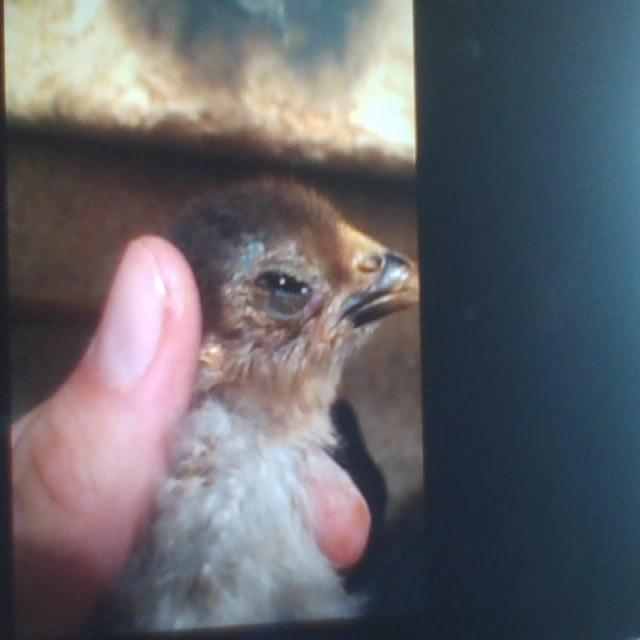Sick: (142, 185, 396, 624)
